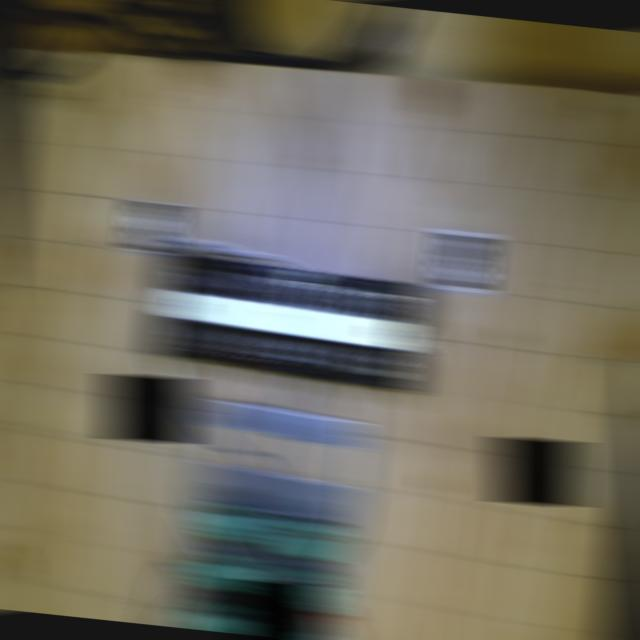Phillips_Block: (148, 250, 429, 392)
Terminal_2: (266, 563, 336, 612), (190, 550, 258, 595), (197, 500, 265, 544), (184, 597, 253, 634), (262, 612, 330, 640)
